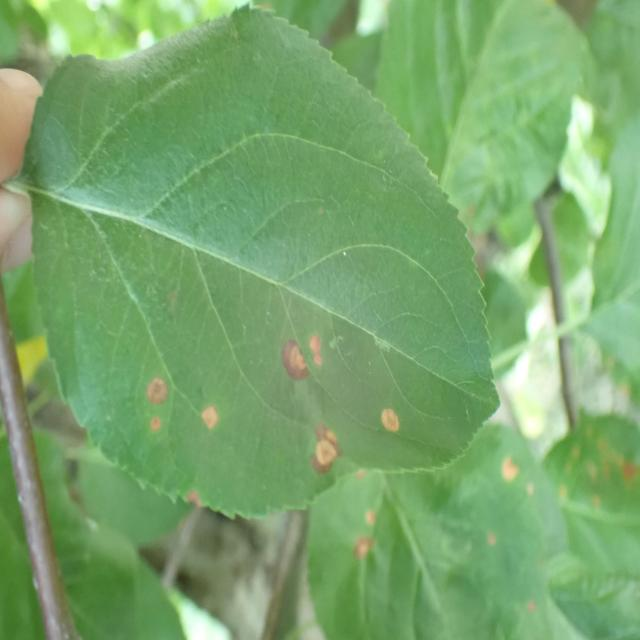Black Rot: (271, 321, 343, 396), (130, 368, 180, 458), (296, 422, 350, 496), (354, 383, 414, 447), (168, 481, 216, 525), (193, 402, 234, 452), (494, 449, 524, 513)
